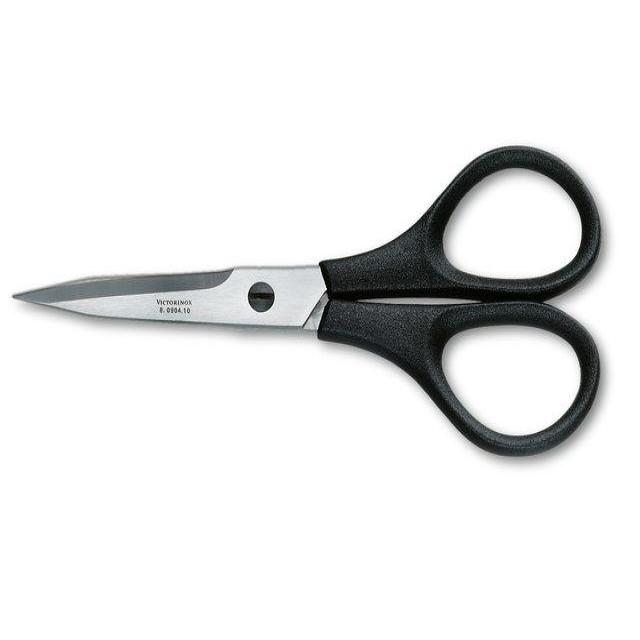scissor: (0, 146, 613, 479)
